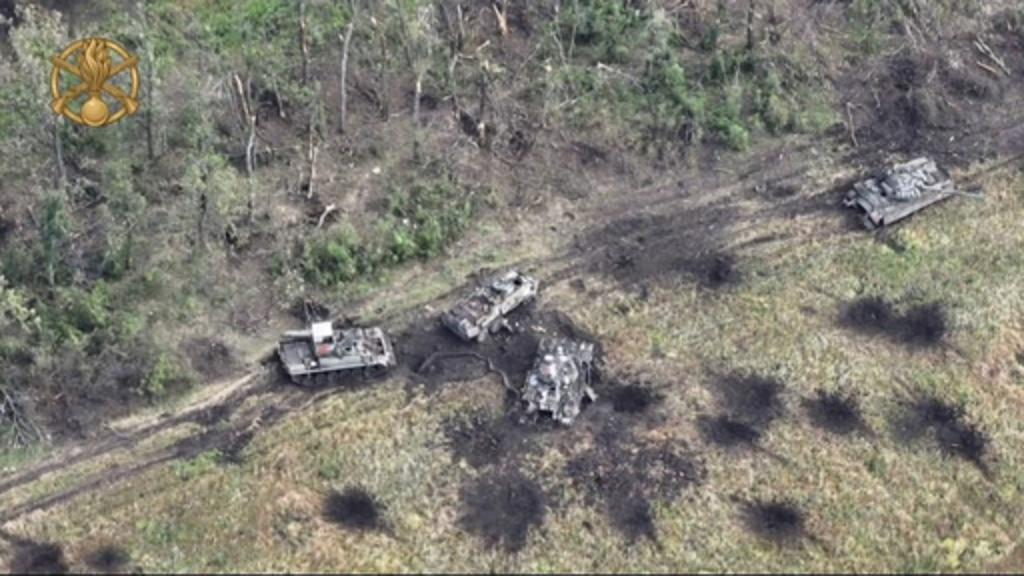APC-IFV: (436, 262, 546, 350), (268, 316, 398, 382)
TANK: (840, 150, 990, 238), (510, 326, 600, 434)
